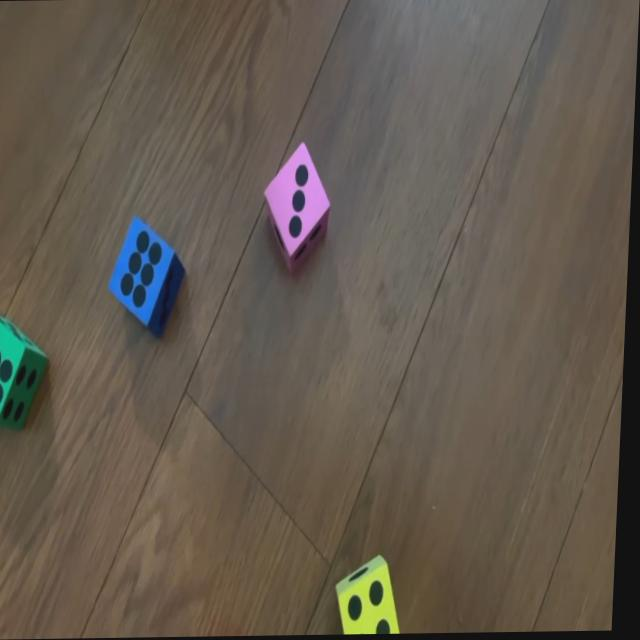blue_block: (110, 216, 186, 337)
